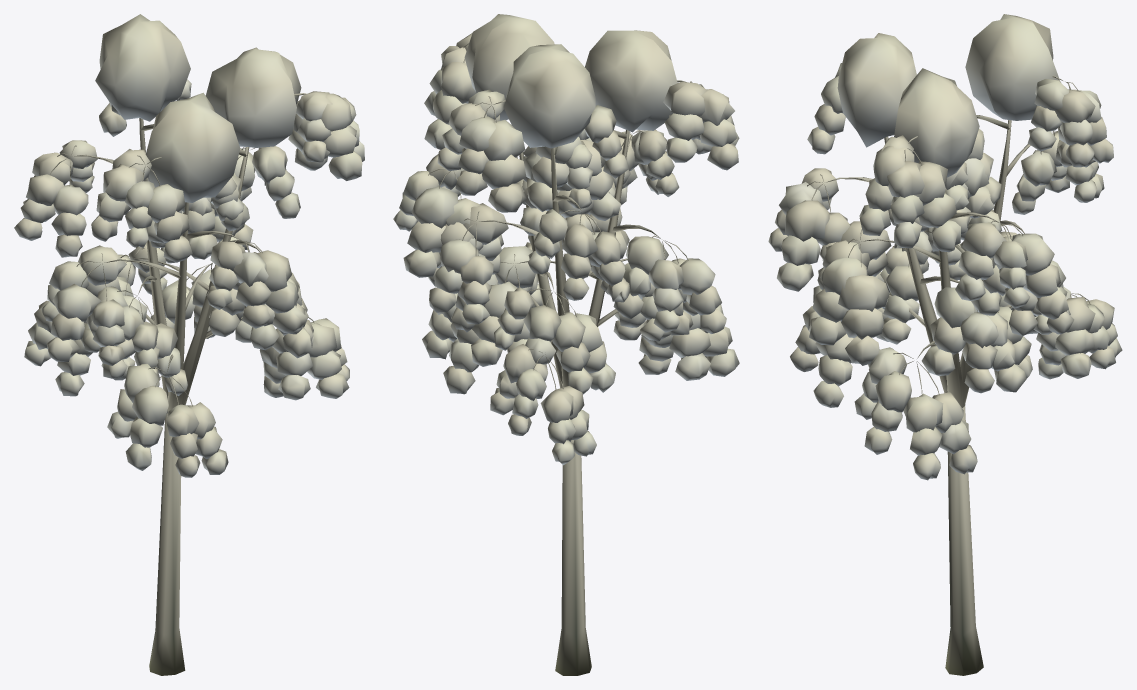
3 renders of one model, left to right at view 1: azimuth 30°, elevation 25°; view 2: azimuth 150°, elevation 25°; view 3: azimuth 270°, elevation 25°, orthographic. The views are drawn at different scales.
Parts seen in each view (by area): view 1: crown, trunk; view 2: crown, trunk; view 3: crown, trunk.
Boxes of the visible parts, x1,y1,x2,y2 form: crown: (14,14,364,477); trunk: (50,93,314,675); crown: (393,14,739,465); trunk: (428,43,703,675); crown: (768,14,1122,480); trunk: (807,75,1090,675).
Bounding box in the file's own units: 7.73 × 15.28 × 7.55.
